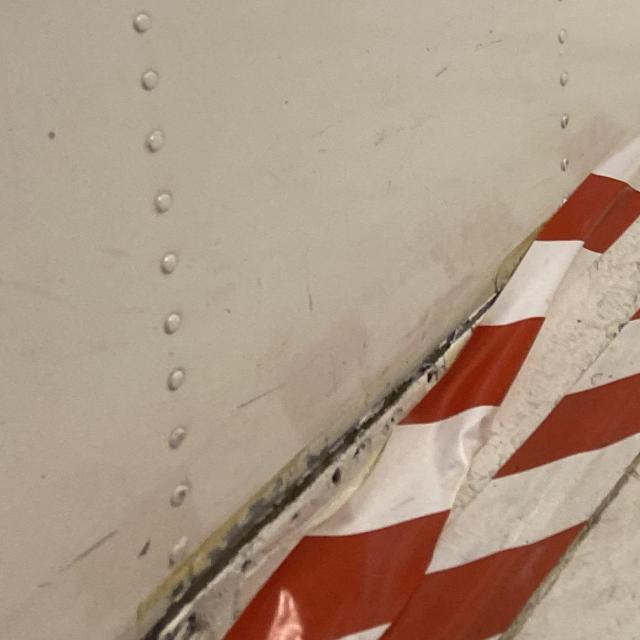Crack: (120, 287, 509, 640)
Paint-off: (35, 128, 68, 144)
